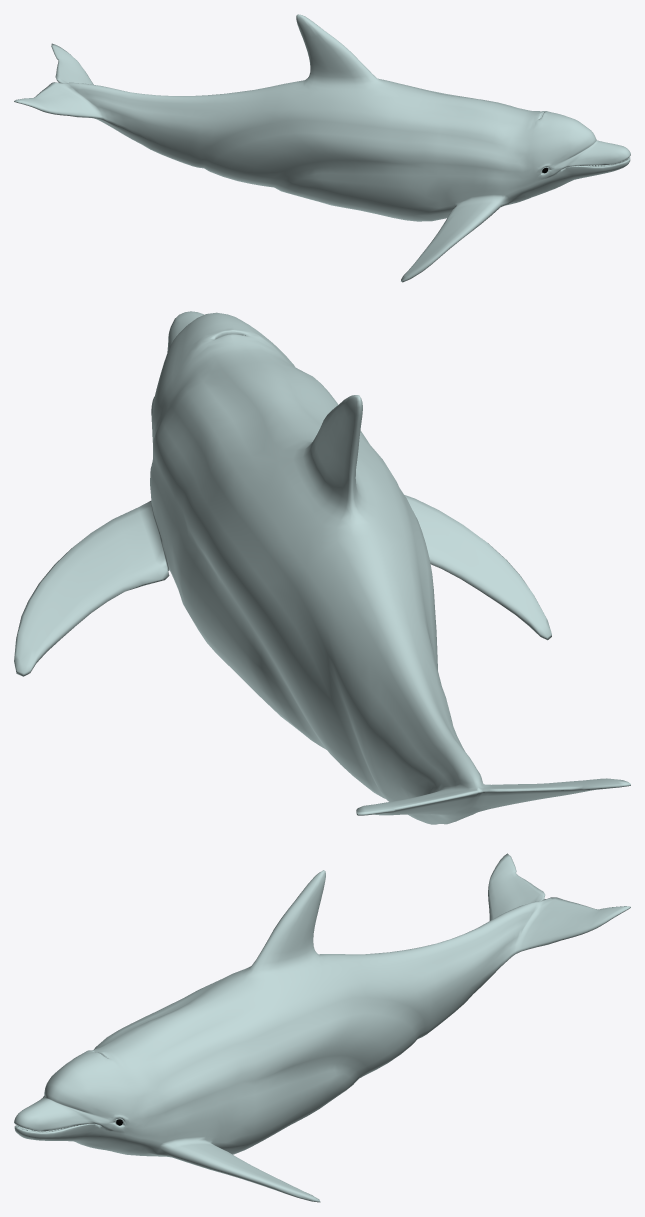
The model's file is dolphin_000008.obj.
The picture shows the model from 3 angles, top to bottom: view 1: azimuth 30°, elevation 25°; view 2: azimuth 150°, elevation 25°; view 3: azimuth 270°, elevation 25°; orthographic projection. The views are drawn at different scales.
Visible parts, largest first — view 1: Dolphin; view 2: Dolphin; view 3: Dolphin.
Part boxes in pixels (bbox=[...]): Dolphin: bbox=[14, 14, 630, 282]; Dolphin: bbox=[14, 311, 630, 824]; Dolphin: bbox=[14, 853, 630, 1202].
Size of the model in its own units: 5.51 by 2.44 by 5.6.
